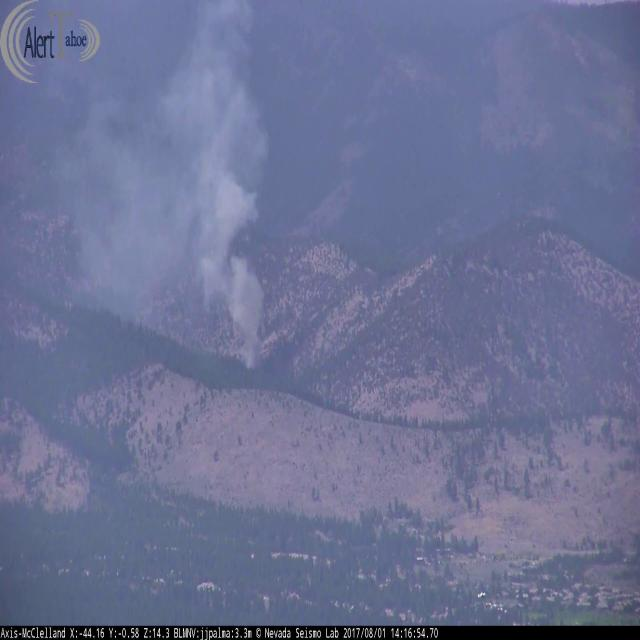smoke: (178, 0, 280, 379)
